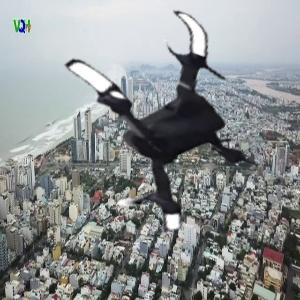drone: (46, 8, 291, 253)
